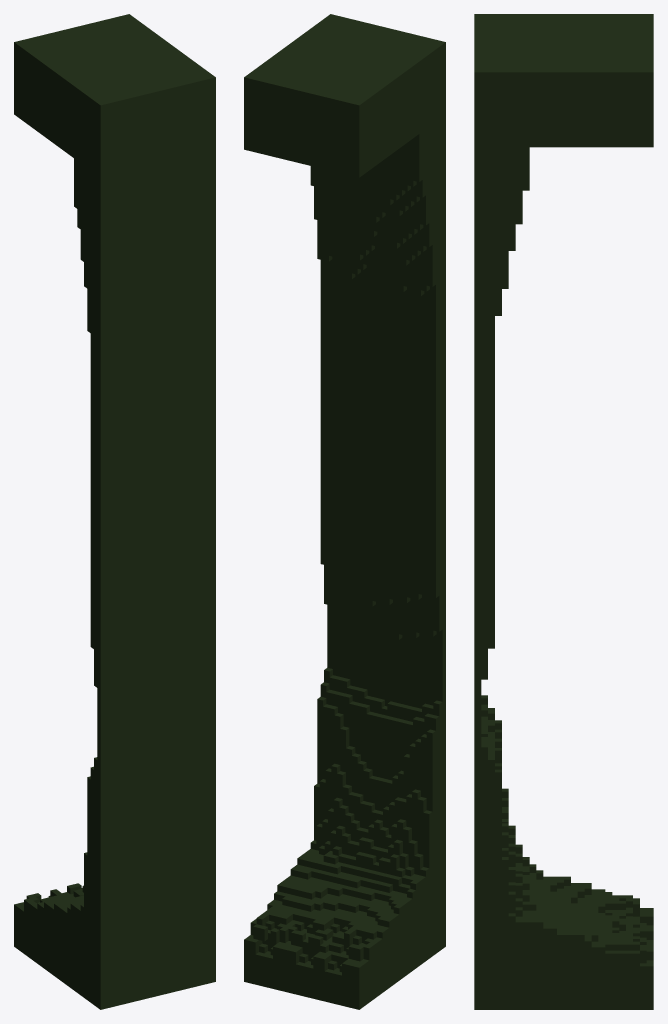
File: Wall_3_mirror.glb
The picture shows the model from 3 angles, left to right: view 1: azimuth 30°, elevation 25°; view 2: azimuth 150°, elevation 25°; view 3: azimuth 270°, elevation 25°; orthographic projection. The views are drawn at different scales.
Parts seen in each view (by area): view 1: Untitled.012; view 2: Untitled.012; view 3: Untitled.012.
Boxes of the visible parts, left/top/right/bottom form: Untitled.012: left=14, top=14, right=215, bottom=1009; Untitled.012: left=244, top=14, right=445, bottom=1009; Untitled.012: left=474, top=14, right=653, bottom=1009.
Size of the model in its own units: 2 by 15 by 2.6.
Materials: 1 (1 with a texture image).
